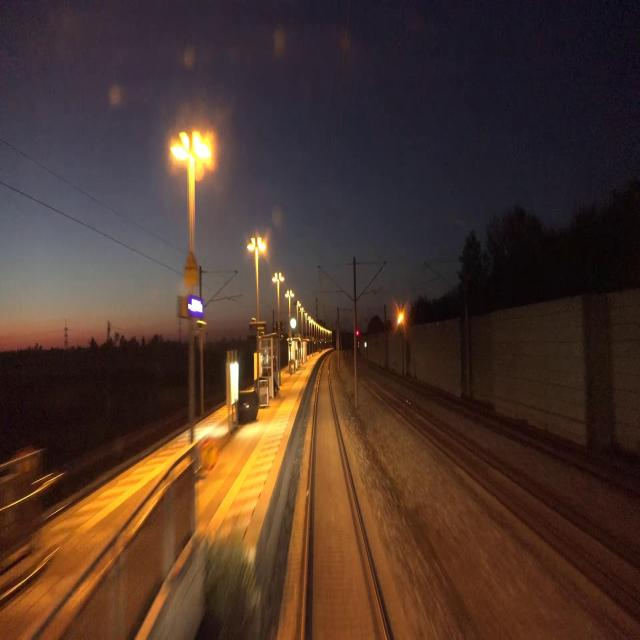rail-track: (357, 366, 640, 617), (305, 359, 384, 639), (345, 351, 354, 367)
